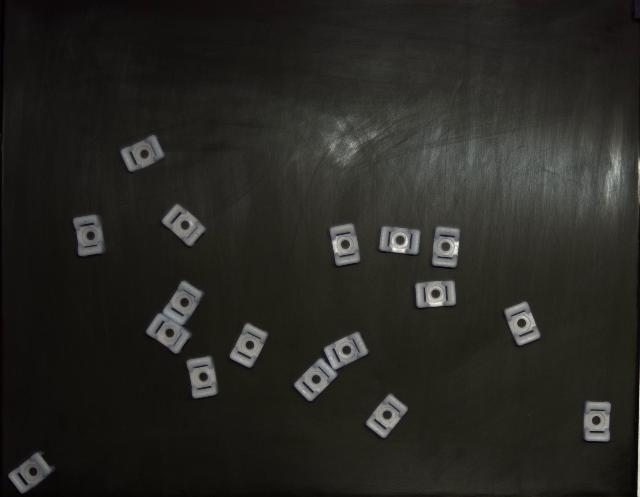first_side: (9, 452, 55, 494), (366, 394, 408, 439), (294, 359, 338, 401), (162, 205, 206, 246), (164, 281, 204, 325), (230, 324, 269, 369), (324, 332, 369, 370), (120, 135, 165, 172), (504, 302, 540, 346), (72, 215, 105, 258), (186, 356, 219, 399), (330, 224, 360, 266), (431, 226, 460, 268), (379, 226, 420, 255), (582, 401, 611, 442), (415, 281, 456, 309)
